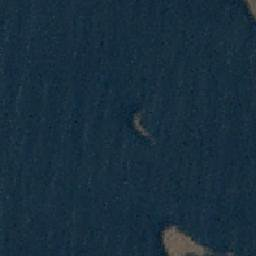debris: (160, 223, 198, 256), (134, 111, 148, 136), (246, 1, 256, 16)
